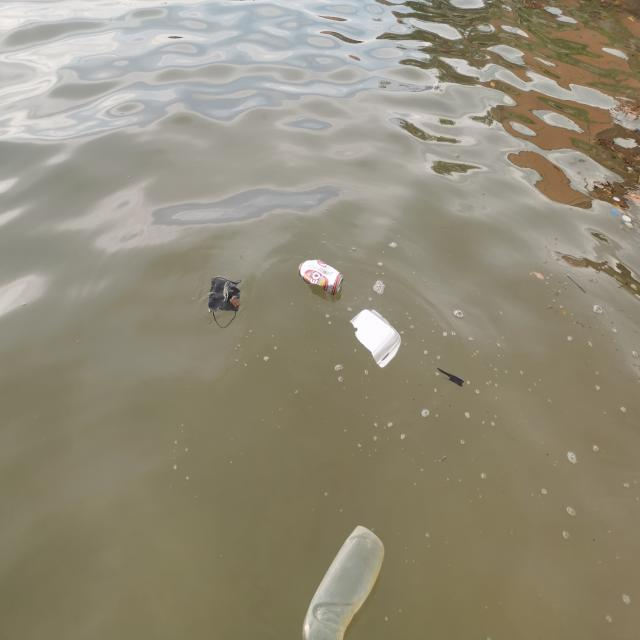can: (298, 256, 346, 295)
foam: (346, 304, 405, 372)
plastic: (294, 520, 393, 640)
unknow: (206, 274, 244, 331)
